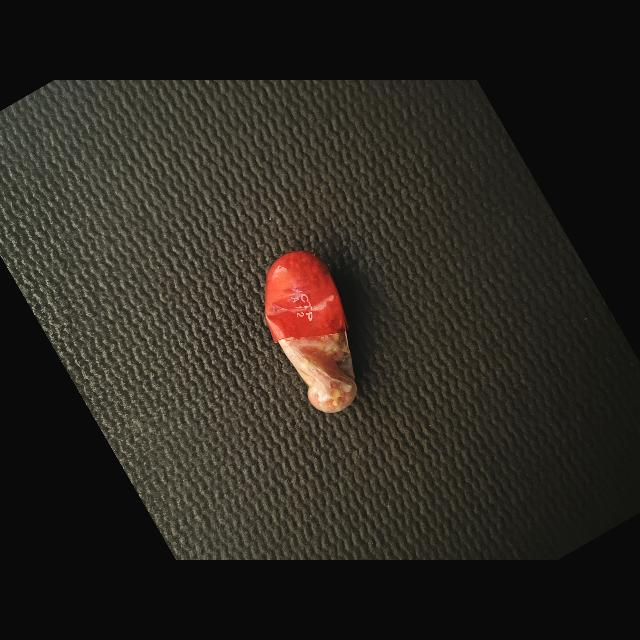Defective Capsule: (265, 251, 357, 413)
